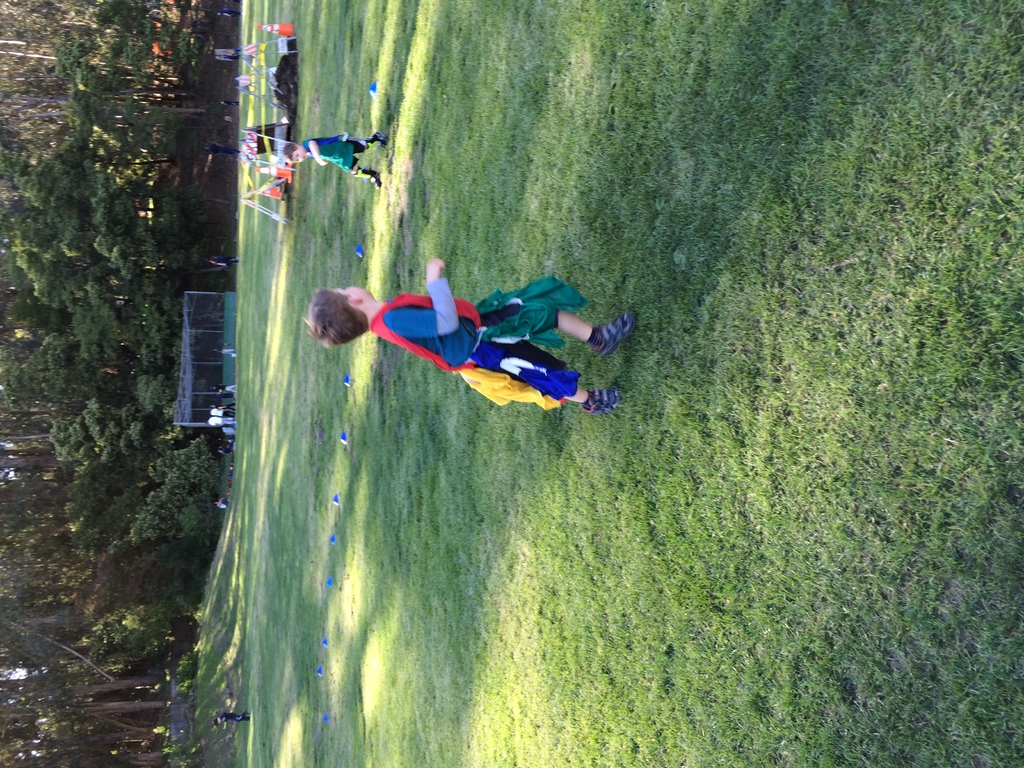Person: (304, 257, 637, 413), (282, 132, 390, 189)
